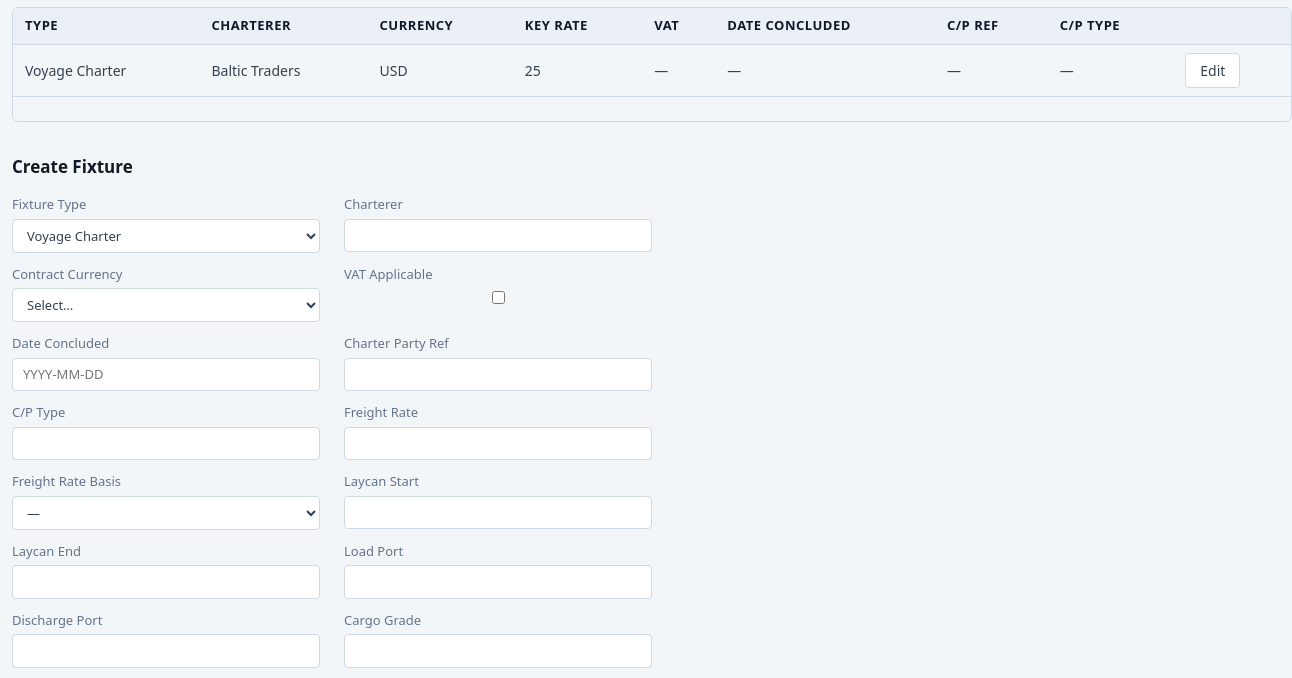
Test case: FixturesPage › lets the operator edit a fixture, shows a warning while editing, and submits a PUT
The width and height of the screenshot is (1292, 678).
Check: the text "Baltic Traders" is shown, box top-left (199, 44), bottom-right (368, 96)
Click the button "Edit".
click(1213, 70)  # box top-left (1185, 52), bottom-right (1240, 88)
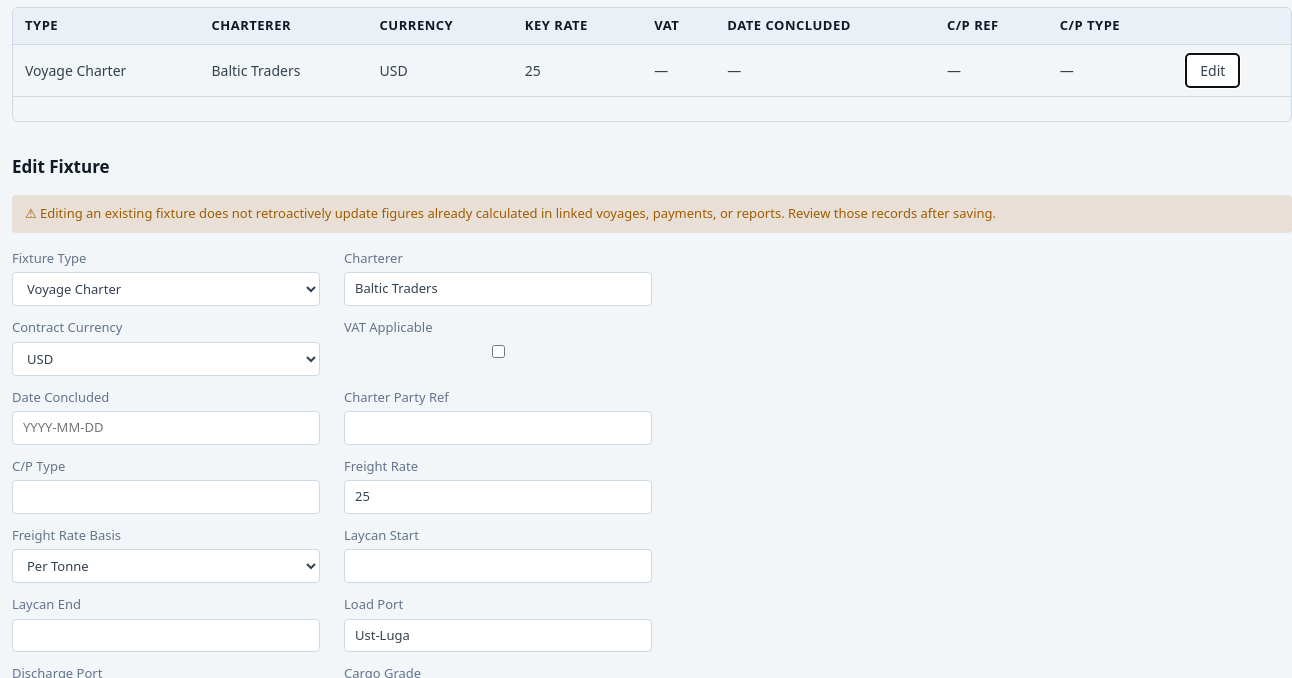
Check: the field labelled "Charterer" holds "Baltic Traders"
Replace the text in the field labelled "Charterer" with "Updated Charterer" at (498, 289), box top-left (344, 272), bottom-right (652, 306)
(page scrolled)
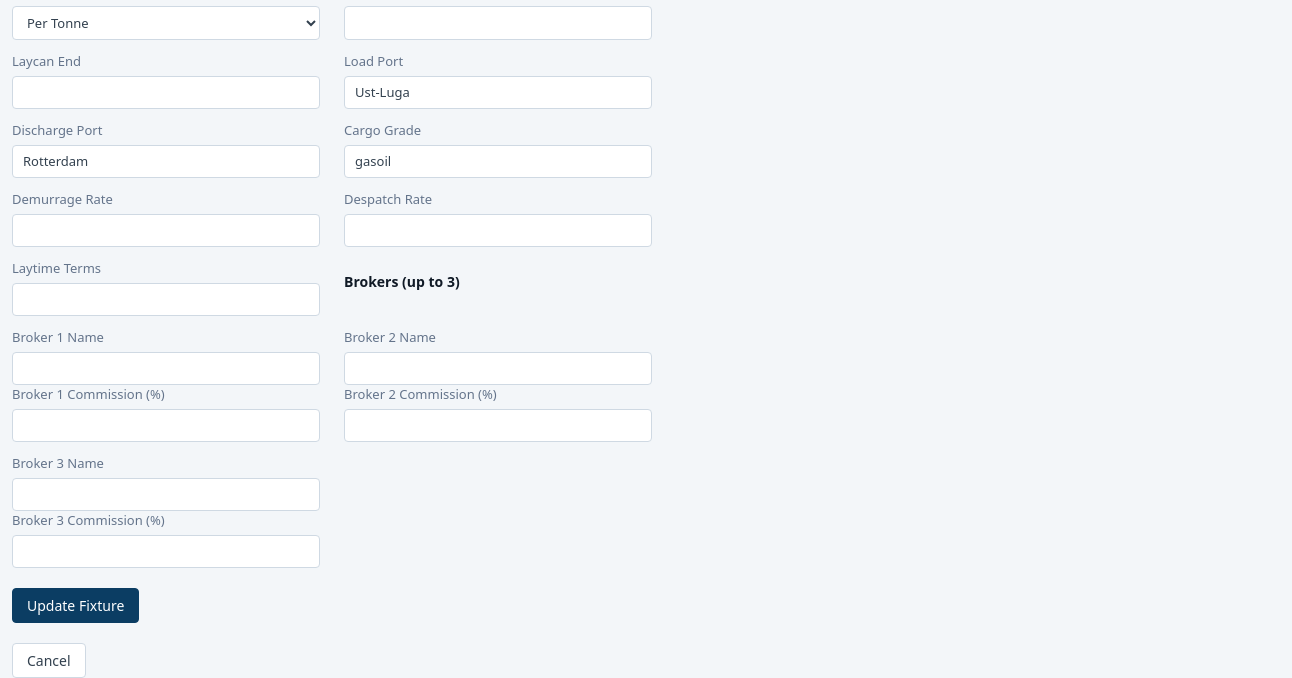
Click the button "Update Fixture".
click(76, 606)  # box top-left (12, 588), bottom-right (139, 623)
(page scrolled)
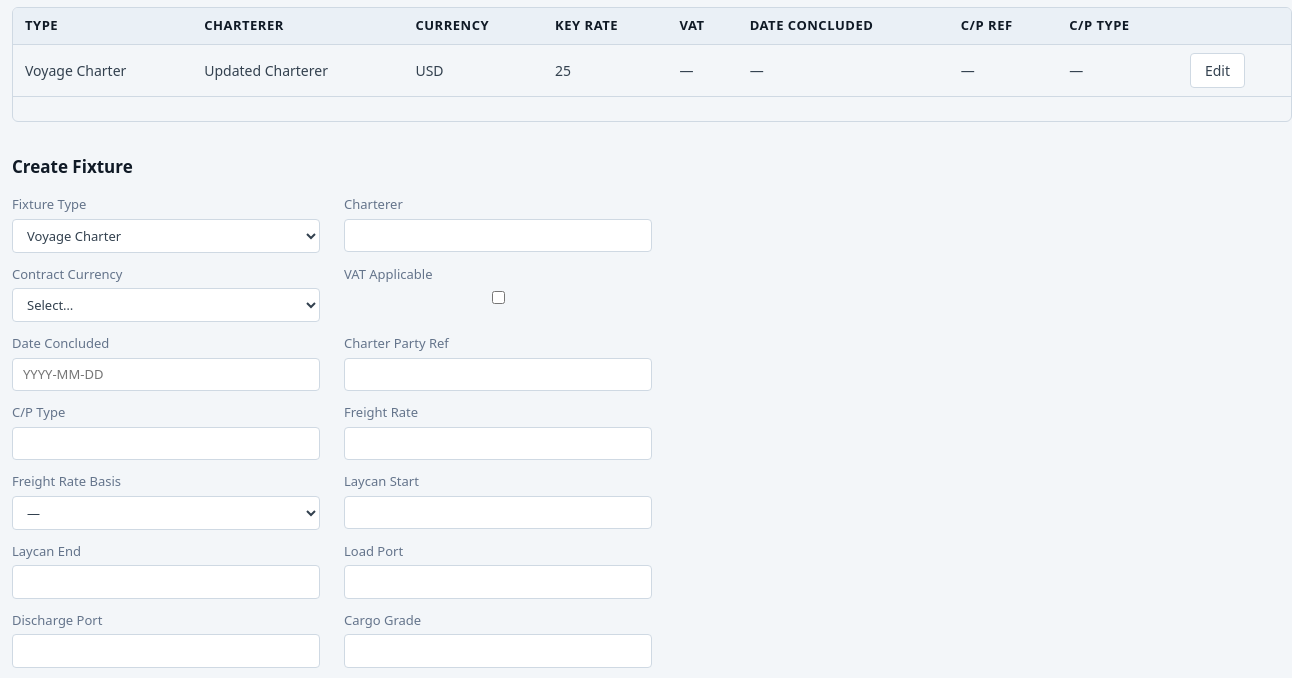
Check: the text "Baltic Traders" reads "Updated Charterer", box top-left (204, 60), bottom-right (328, 80)
